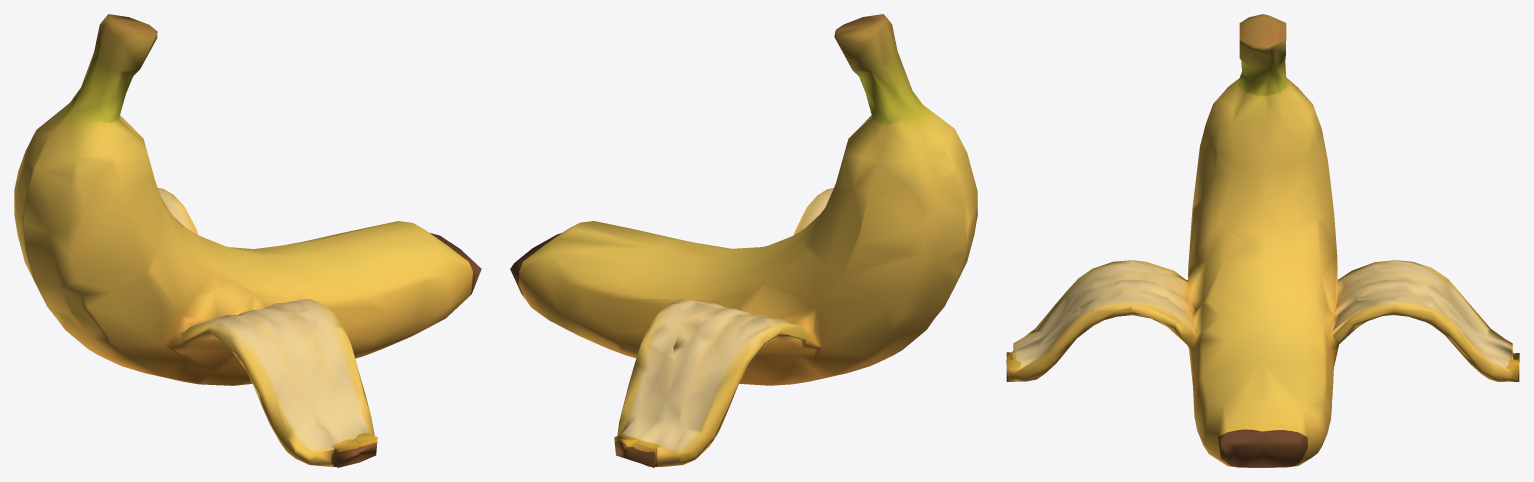
The model's file is banana_peel.glb.
3 views of the same model, side by side, from view 1: azimuth 30°, elevation 25°; view 2: azimuth 150°, elevation 25°; view 3: azimuth 270°, elevation 25° (orthographic). The views are drawn at different scales.
Parts seen in each view (by area): view 1: tripo_node_5ad85052-0f24-4760-9768-175acc8dff97; view 2: tripo_node_5ad85052-0f24-4760-9768-175acc8dff97; view 3: tripo_node_5ad85052-0f24-4760-9768-175acc8dff97.
Part boxes in pixels (x1,y1,x2,y2): tripo_node_5ad85052-0f24-4760-9768-175acc8dff97: (14, 14, 481, 467); tripo_node_5ad85052-0f24-4760-9768-175acc8dff97: (510, 14, 977, 467); tripo_node_5ad85052-0f24-4760-9768-175acc8dff97: (1006, 14, 1519, 467).
Bounding box in the file's own units: 0.8688 × 0.7276 × 1.
1 material, 1 textured.
